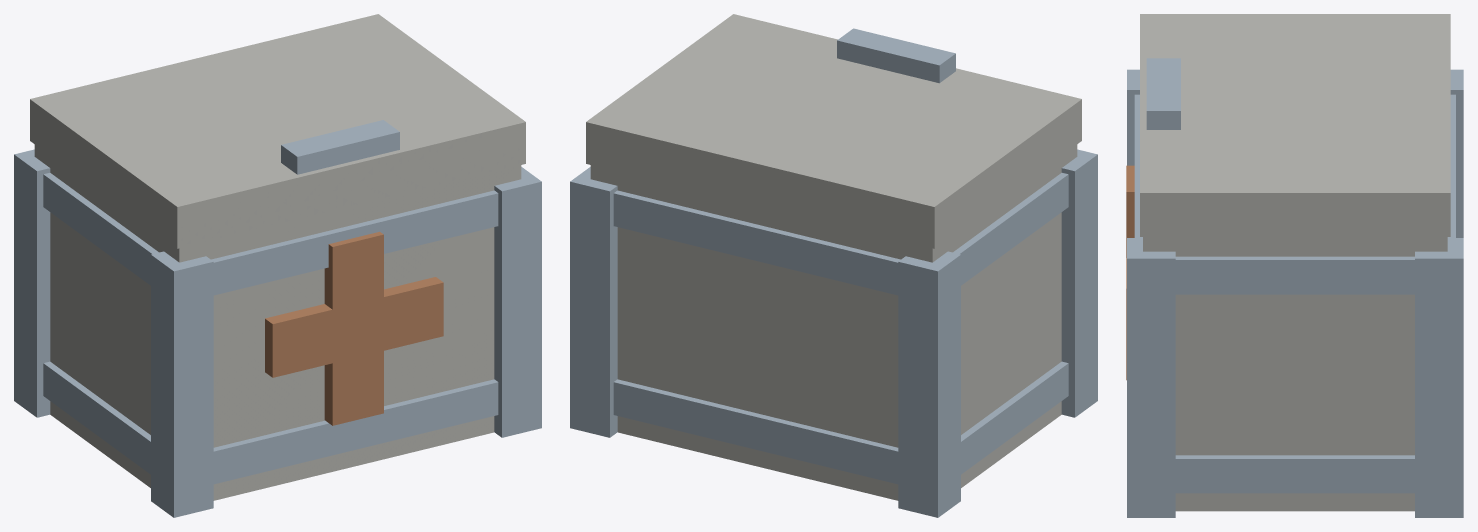
Rendered from wipe-day-survival-island-medical-crate-89fed094__27449.glb.
3 views of the same model, side by side, from view 1: azimuth 30°, elevation 25°; view 2: azimuth 150°, elevation 25°; view 3: azimuth 270°, elevation 25° (orthographic). The views are drawn at different scales.
Parts seen in each view (by area): view 1: medical-crate, lid/stone, lid/metal; view 2: medical-crate, lid/stone, lid/metal; view 3: medical-crate, lid/stone, lid/metal.
Part boxes in pixels (x1,y1,x2,y2): medical-crate: (14, 144, 541, 517); lid/stone: (30, 14, 525, 248); lid/metal: (281, 120, 399, 174); medical-crate: (570, 144, 1097, 517); lid/stone: (586, 14, 1081, 248); lid/metal: (837, 28, 955, 83); medical-crate: (1126, 69, 1463, 517); lid/stone: (1140, 14, 1450, 236); lid/metal: (1146, 58, 1180, 129).
Size of the model in its own units: 0.646 by 0.54 by 0.487.
